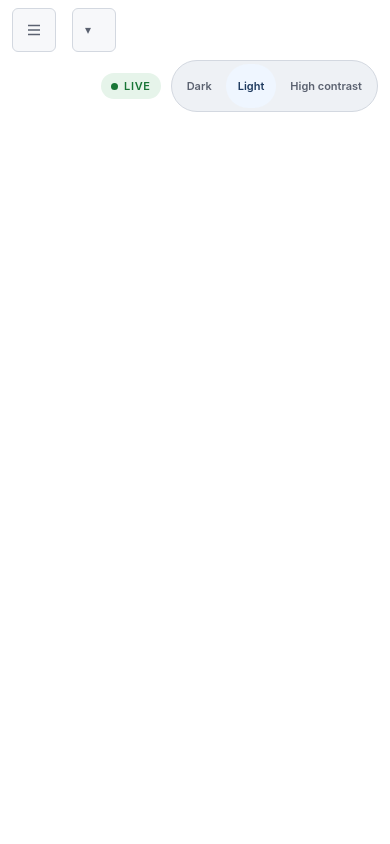
Test case: RackSelectorTopBarComponent › opens the nav drawer in a true (aria-modal) CDK Dialog carrying the current rackId
The image size is (390, 844).
Click the button with class "topbar__hamburger": (34, 30) x1=12 y1=8 x2=56 y2=52
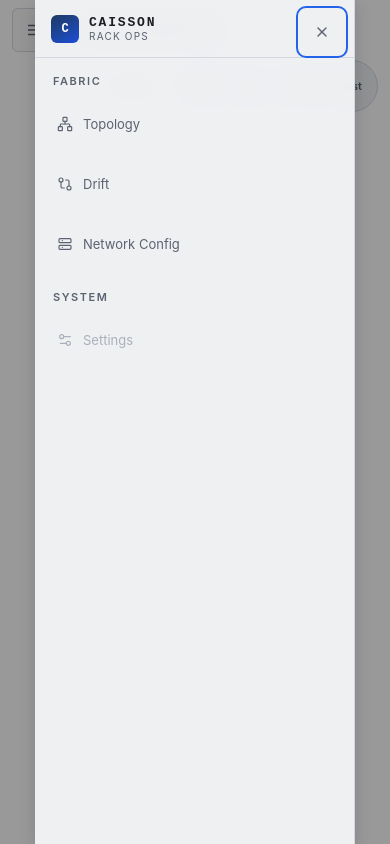
Now the element with class "nav-drawer" is shown
Now the element with class "cds-overlay-backdrop" is shown
